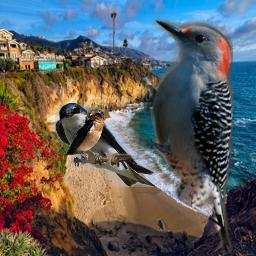Swallow: (55, 103, 155, 187), (65, 109, 104, 160)
Woodpecker: (137, 14, 233, 254)
